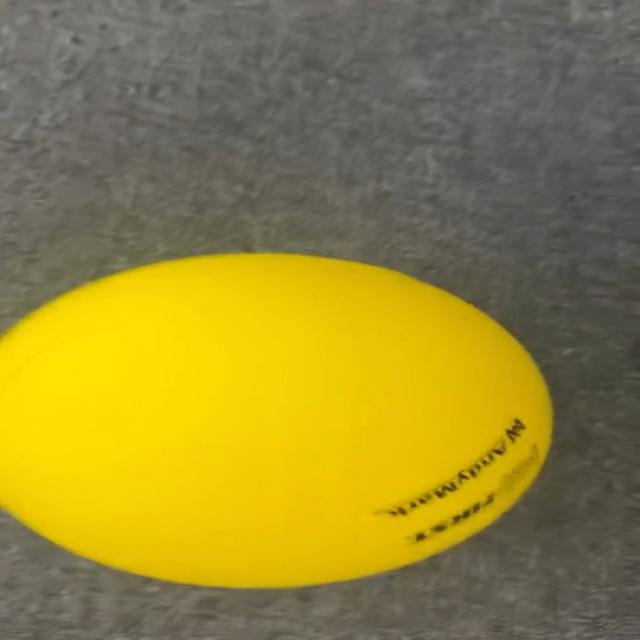Fuels: (4, 254, 554, 585)
